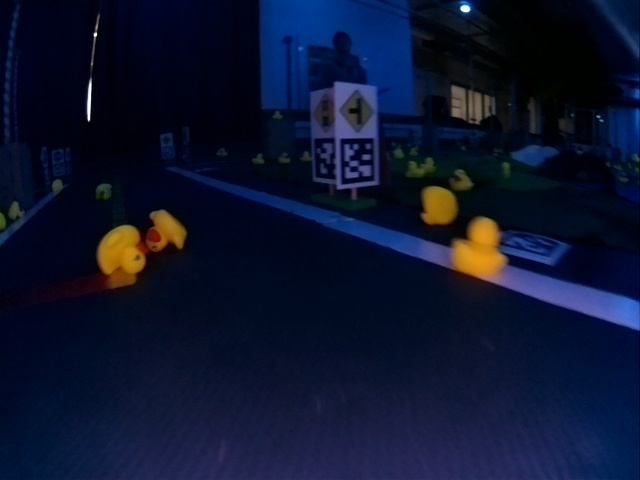Duckie: (451, 216, 508, 275), (96, 226, 146, 275), (147, 209, 186, 251), (422, 185, 458, 225), (453, 168, 471, 192), (95, 183, 111, 198), (406, 160, 420, 176), (424, 156, 435, 172), (254, 153, 263, 163), (54, 182, 63, 192), (278, 152, 288, 160), (301, 151, 309, 160)
Intersection sign: (339, 88, 374, 132)
QR code: (496, 229, 570, 264), (339, 138, 374, 184), (312, 136, 337, 180)
Signal sign: (311, 92, 336, 132)
